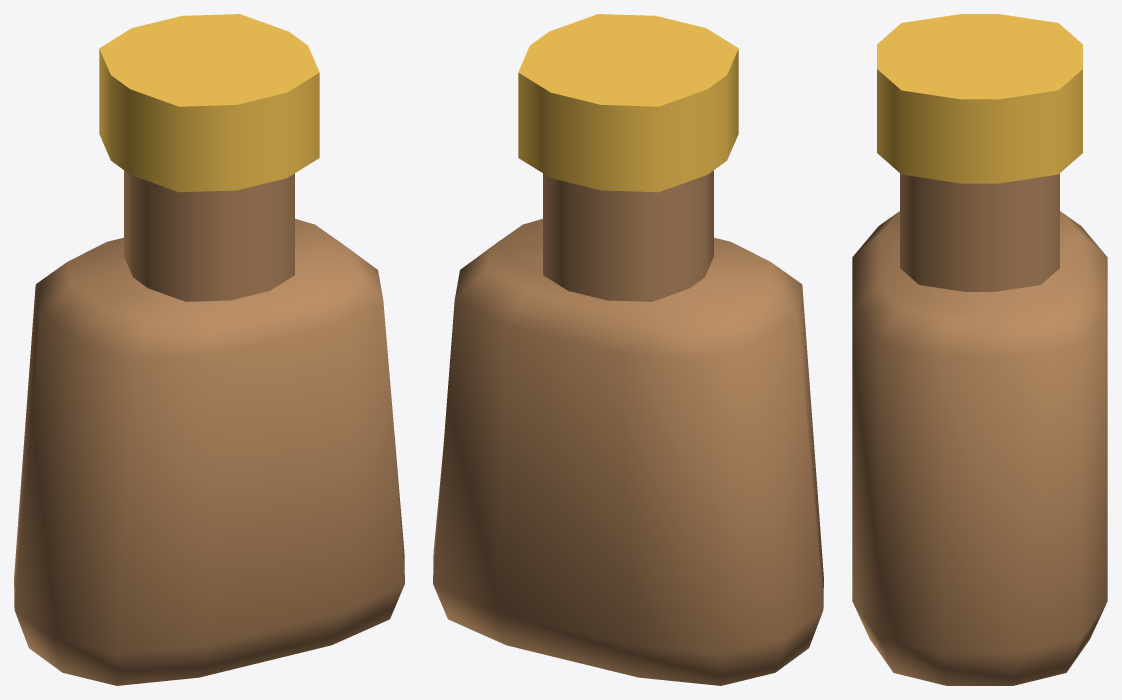
The model's file is Bottle_2.fbx.
The picture shows the model from 3 angles, left to right: view 1: azimuth 30°, elevation 25°; view 2: azimuth 150°, elevation 25°; view 3: azimuth 270°, elevation 25°; orthographic projection.
Parts seen in each view (by area): view 1: Bottle_2; view 2: Bottle_2; view 3: Bottle_2.
Boxes of the visible parts, x1=… form: Bottle_2: x1=14, y1=14, x2=404, y2=685; Bottle_2: x1=433, y1=14, x2=823, y2=685; Bottle_2: x1=852, y1=14, x2=1107, y2=685.
Size of the model in its own units: 42.66 by 66.86 by 27.32.
